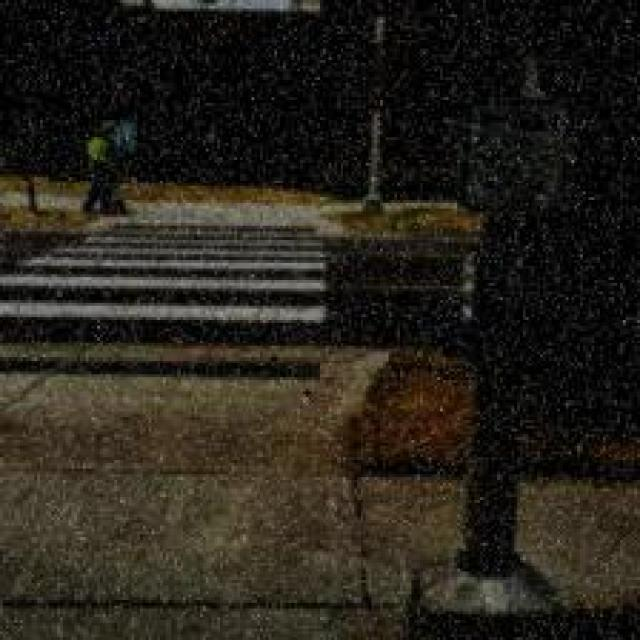crosswalk: (1, 208, 334, 334)
